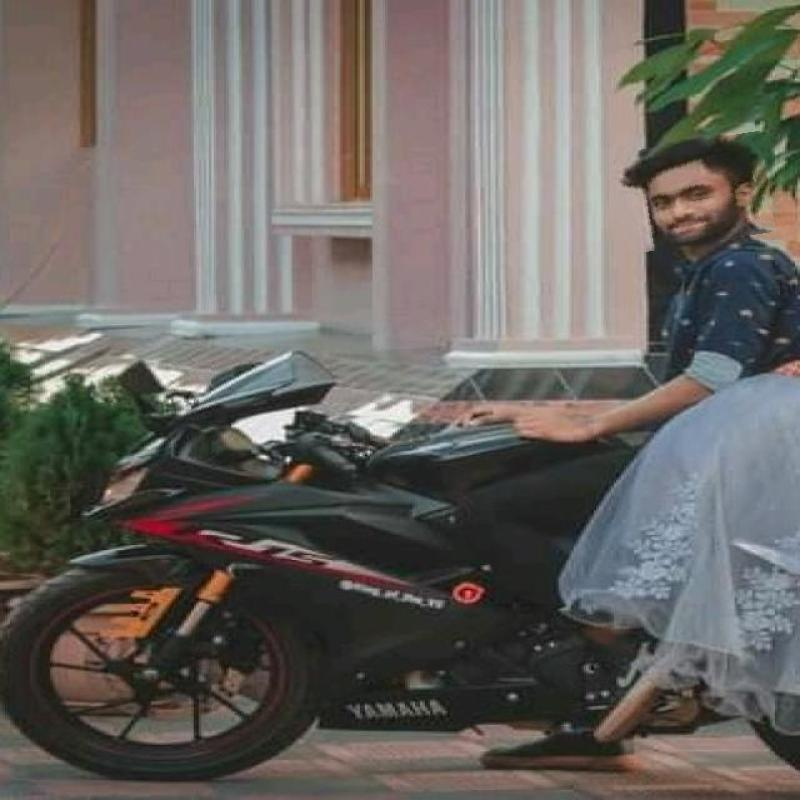nohelmet: (618, 136, 772, 250)
